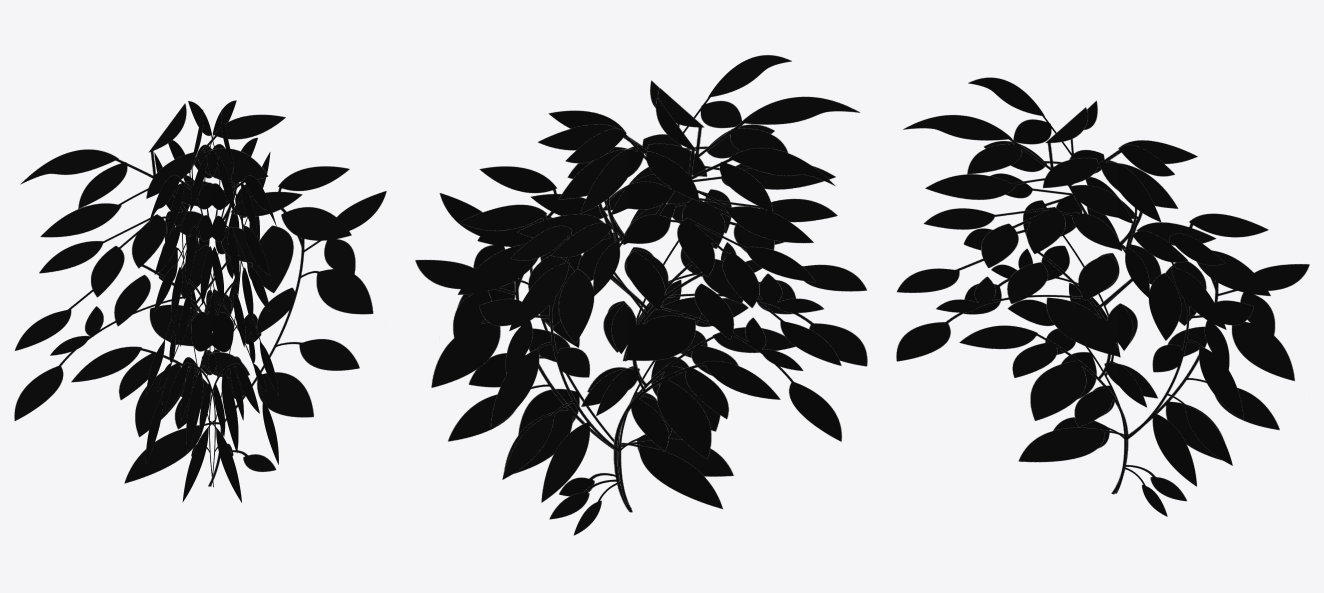
File: BranchFig.glb
3 views of the same model, side by side, from view 1: azimuth 30°, elevation 25°; view 2: azimuth 150°, elevation 25°; view 3: azimuth 270°, elevation 25° (orthographic). The views are drawn at different scales.
Parts seen in each view (by area): view 1: BranchFig; view 2: BranchFig; view 3: BranchFig.
Boxes of the visible parts, bbox=[...] form: BranchFig: bbox=[14, 100, 386, 502]; BranchFig: bbox=[415, 55, 867, 535]; BranchFig: bbox=[896, 77, 1309, 516].
Size of the model in its own units: 2 by 2 by 1.95.
Materials: 1 (1 with a texture image).
